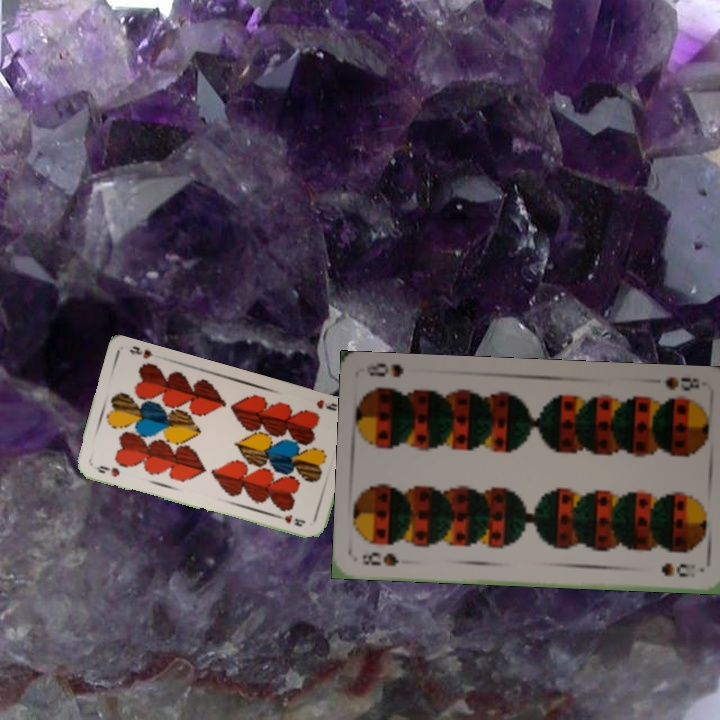H9: (93, 461, 122, 480), (312, 396, 340, 414)
S8: (661, 372, 703, 394), (359, 548, 402, 569)
